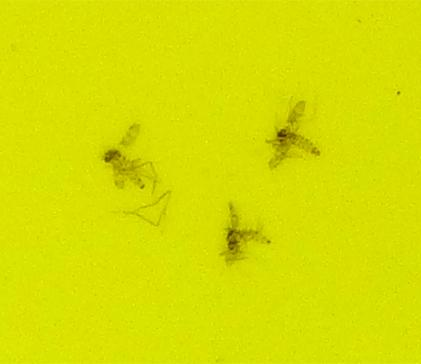Nematocera: (266, 100, 321, 168), (220, 203, 260, 264), (100, 146, 146, 190)
